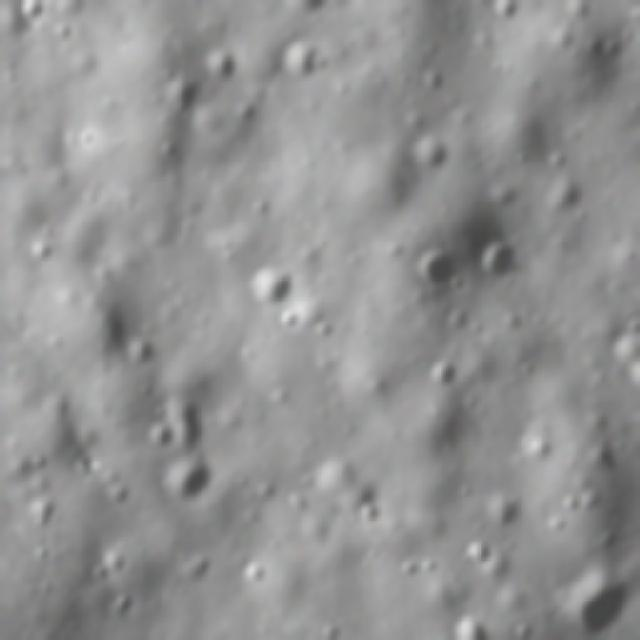crater: (163, 398, 217, 459), (463, 232, 520, 283), (158, 459, 208, 512), (401, 253, 462, 295), (518, 422, 570, 471), (271, 42, 324, 89), (410, 125, 456, 178), (423, 354, 471, 398), (349, 492, 394, 538), (86, 544, 136, 584), (480, 487, 522, 533), (254, 262, 292, 312), (458, 537, 499, 578), (136, 419, 179, 456), (162, 74, 200, 114), (205, 50, 246, 87), (127, 337, 164, 377), (240, 558, 277, 592), (412, 65, 448, 98), (107, 594, 142, 626)
